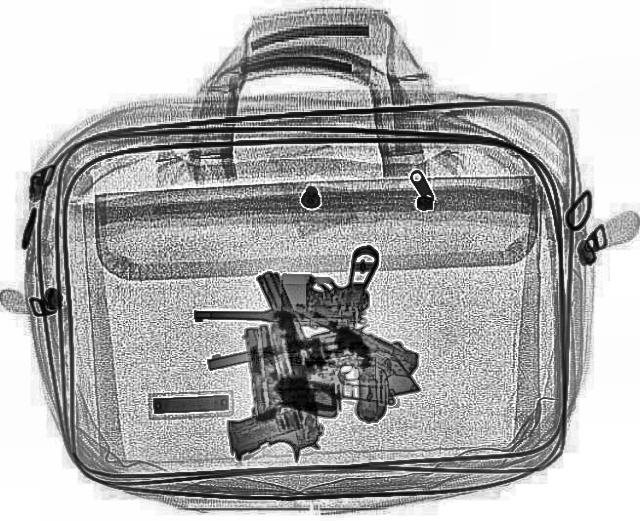Gun: (202, 314, 424, 412), (206, 318, 326, 466), (194, 247, 378, 323), (262, 309, 340, 423)
